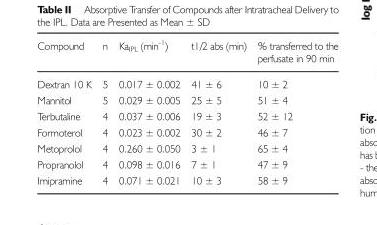table: (36, 37, 337, 186)
table column: (251, 37, 337, 186), (112, 37, 184, 186), (184, 37, 251, 186), (36, 37, 96, 186), (96, 37, 112, 186)
table column header: (36, 37, 337, 70)
table row: (36, 37, 337, 70), (36, 70, 337, 91), (36, 91, 337, 107), (36, 107, 337, 123), (36, 123, 337, 139), (36, 139, 337, 155), (36, 155, 337, 171), (36, 171, 337, 186)
